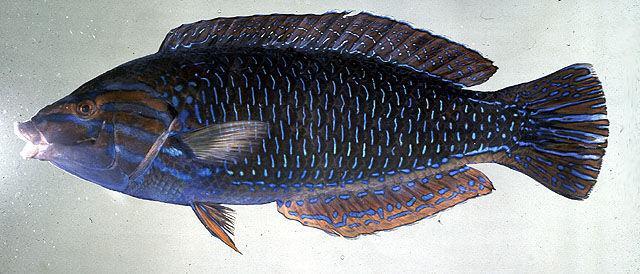fish: (15, 11, 611, 255)
